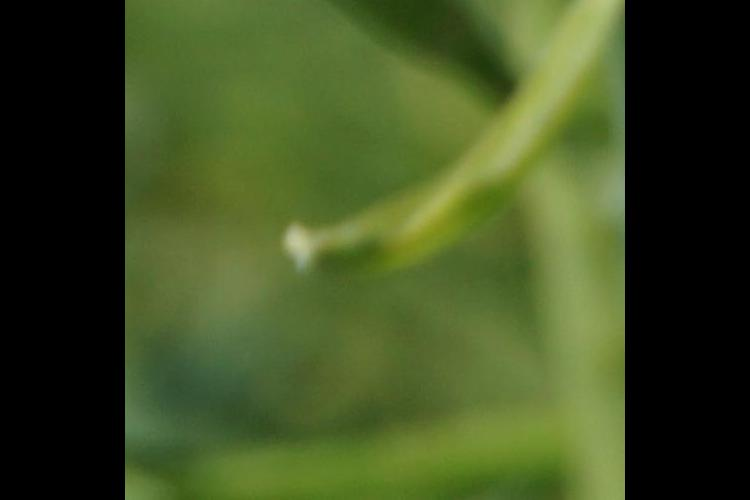pod: (278, 18, 582, 289)
